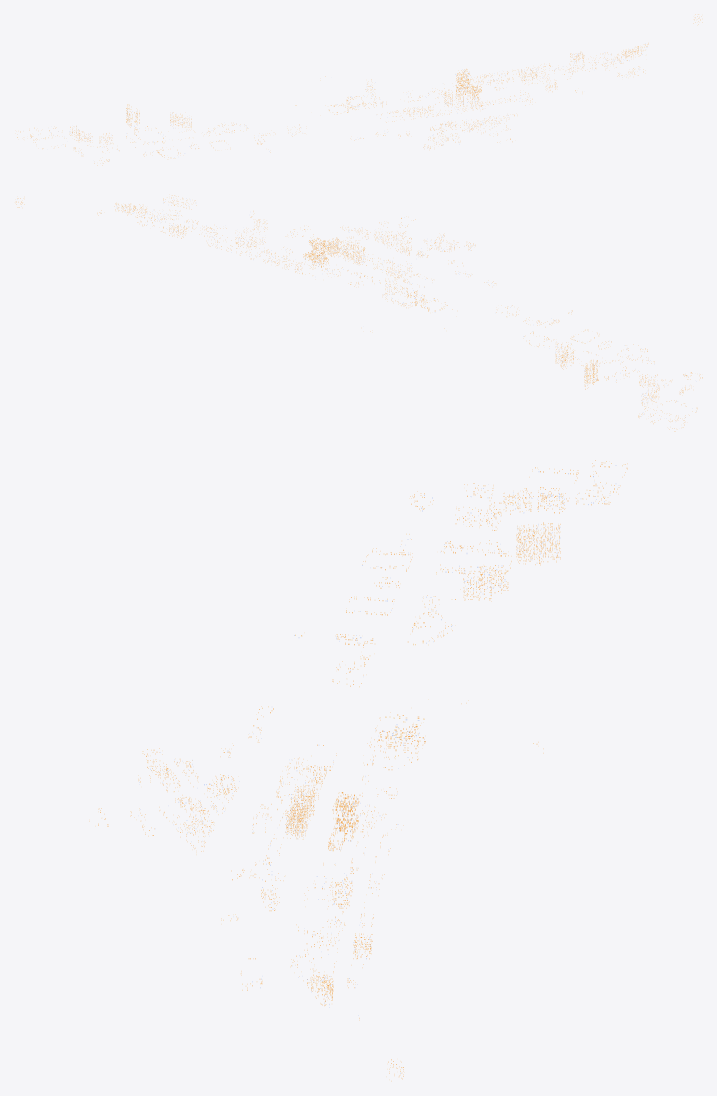
Rendered from buildings-charles-river-lights-dusk.glb.
3 renders of one model, top to bottom at view 1: azimuth 30°, elevation 25°; view 2: azimuth 150°, elevation 25°; view 3: azimuth 270°, elevation 25°, orthographic. The views are drawn at different scales.
Visible parts, largest first — view 1: buildings-charles-river-lights-dusk; view 2: buildings-charles-river-lights-dusk; view 3: buildings-charles-river-lights-dusk.
Boxes of the visible parts, x1=… form: buildings-charles-river-lights-dusk: x1=17, y1=14, x2=702, y2=165; buildings-charles-river-lights-dusk: x1=16, y1=195, x2=702, y2=431; buildings-charles-river-lights-dusk: x1=89, y1=460, x2=627, y2=1081.
Bounding box in the file's own units: 2701 × 87.93 × 996.
